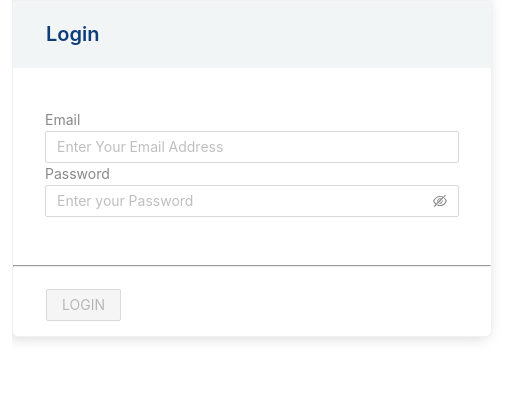
Test: Does show error on incorrect credentials
In the password field with test id "password-input-field": (243, 201) [57,190,429,212], type "KhizarKhan"
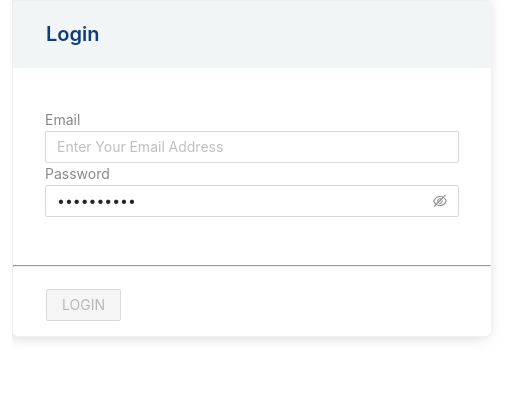
In the field with test id "email-input-field": (252, 147) [45,131,459,163], type "khizar.khan@emumba.com"
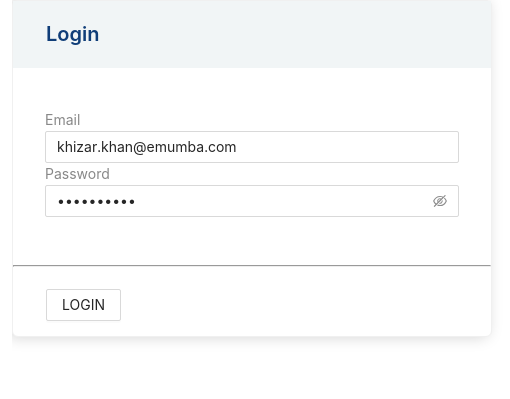
Click the button: (84, 305) [46,289,121,321]
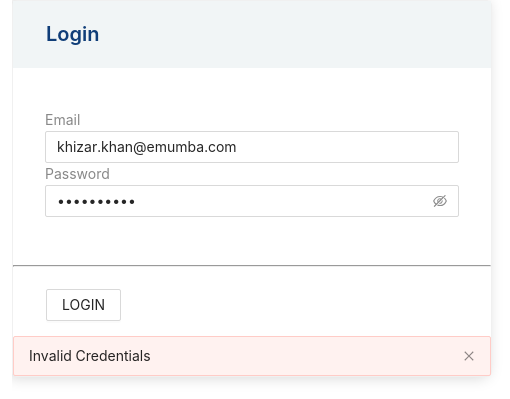
Now the text "Invalid Credentials" is shown, box [29,347,151,364]
